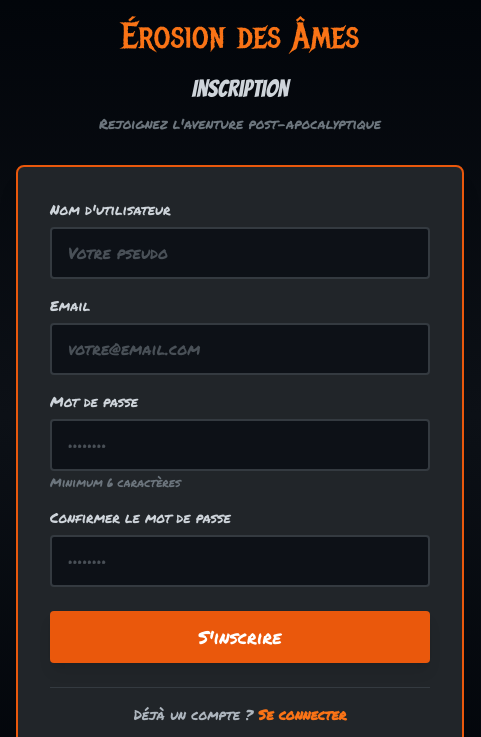
Scenario: Register › should display error for password mismatch
Type "testuser" into the field labelled "Nom d'utilisateur".
click(240, 253); type("testuser")  # box [50,227,430,279]
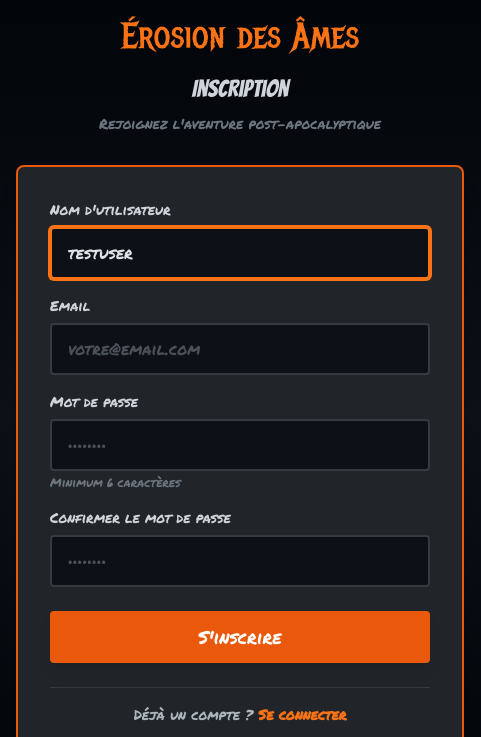
Type "test@test.com" into the field labelled "Email".
click(240, 349); type("test@test.com")  # box [50,323,430,375]
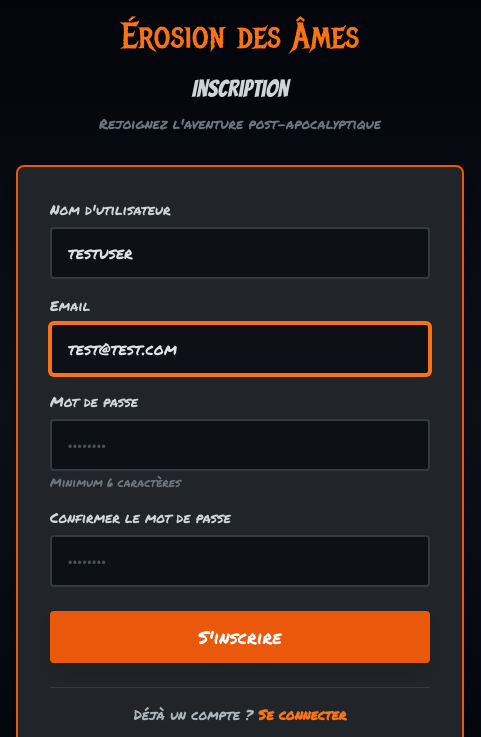
Type "password123" into the password field labelled "Mot de passe".
click(240, 445); type("password123")  # box [50,419,430,471]
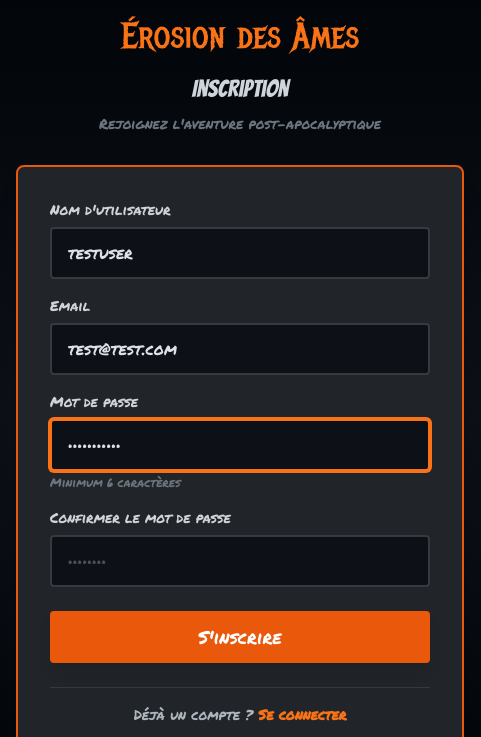
Type "differentpassword" into the password field labelled "Confirmer le mot de passe".
click(240, 561); type("differentpassword")  # box [50,535,430,587]
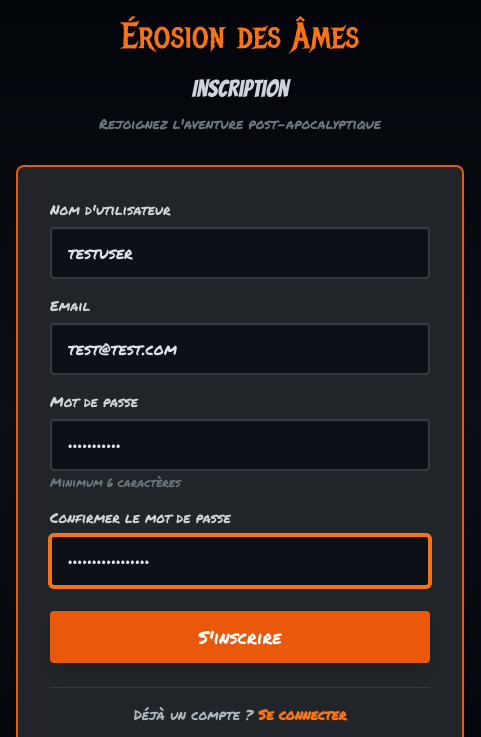
Click the button "S'inscrire".
click(240, 637)  # box [50,611,430,663]
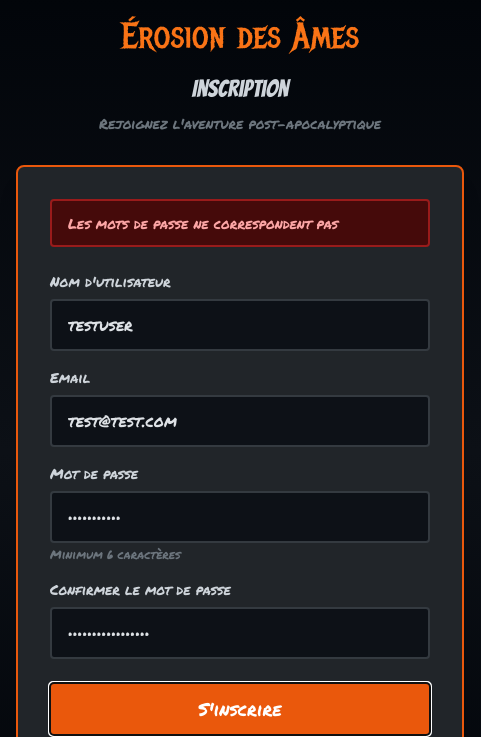
Result: the text "Les mots de passe ne correspondent pas" is shown at [50,199,430,247]
